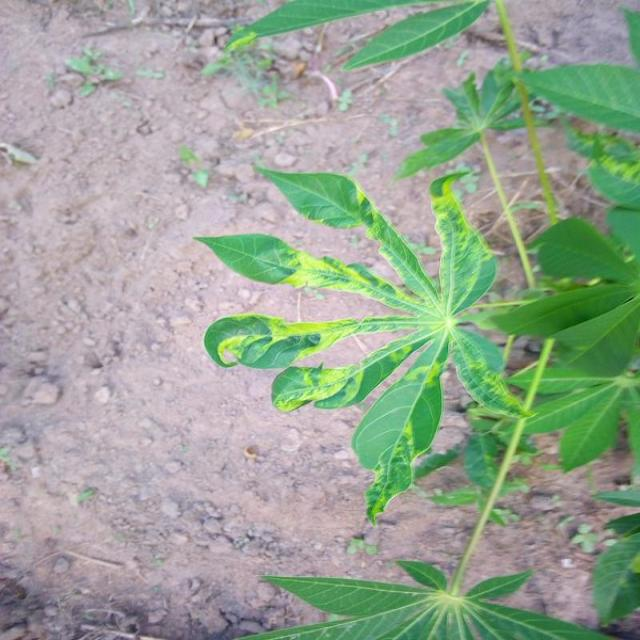cassava leaf: (193, 160, 530, 524)
